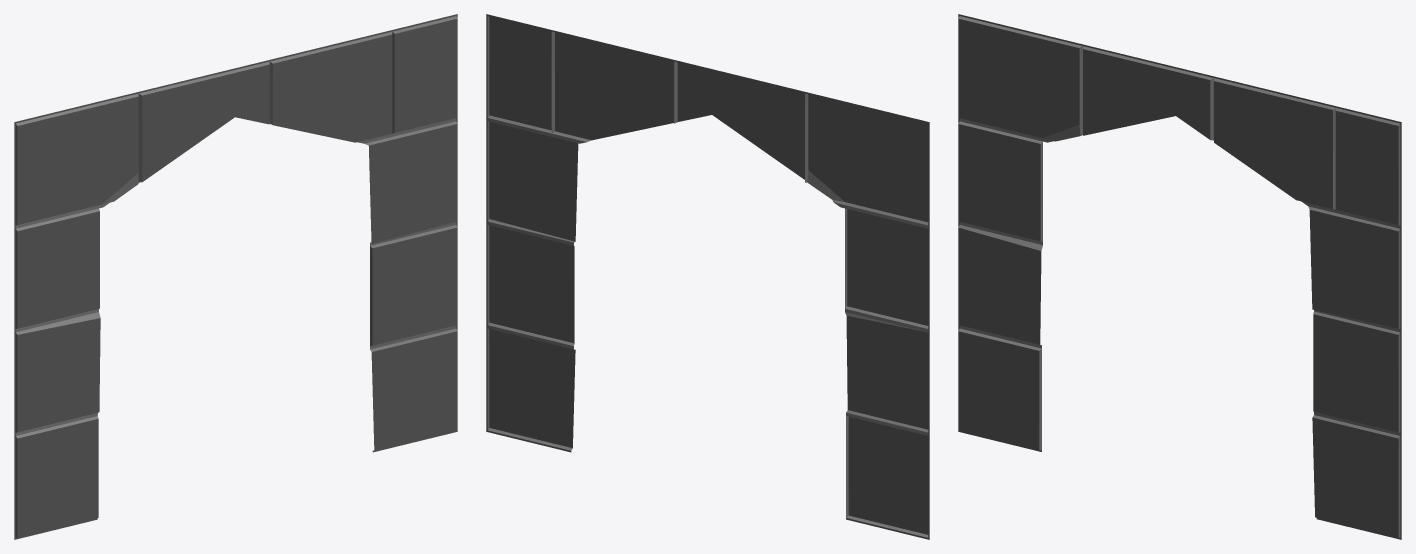
File: ArchWall_01.fbx
3 views of the same model, side by side, from view 1: azimuth 30°, elevation 25°; view 2: azimuth 150°, elevation 25°; view 3: azimuth 330°, elevation 25° (orthographic).
Parts seen in each view (by area): view 1: ArchWall_01; view 2: ArchWall_01; view 3: ArchWall_01.
Part boxes in pixels (x1,y1,x2,y2): ArchWall_01: [14, 14, 457, 539]; ArchWall_01: [486, 14, 929, 539]; ArchWall_01: [958, 14, 1401, 539].
Size of the model in its own units: 280 by 252 by 1.76.
